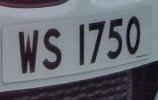0: (123, 12, 145, 58)
1: (73, 18, 89, 70)
5: (105, 14, 125, 62)
7: (86, 15, 108, 68)
S: (40, 25, 66, 74)
W: (14, 25, 43, 78)
